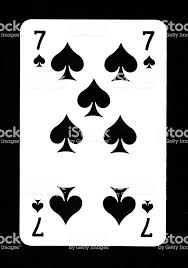seven of spades: (19, 19, 167, 246)
